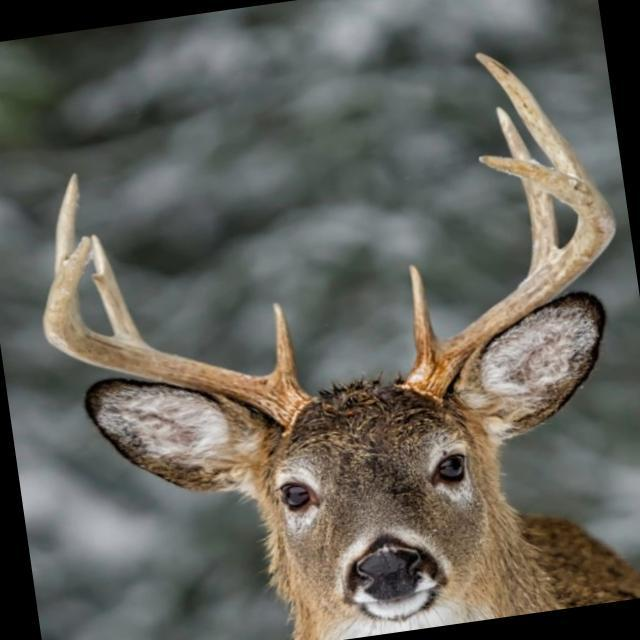L-F: (403, 155, 617, 397)
L-G1: (409, 264, 443, 365)
R-F: (42, 234, 311, 428)
R-G1: (271, 302, 300, 382)
